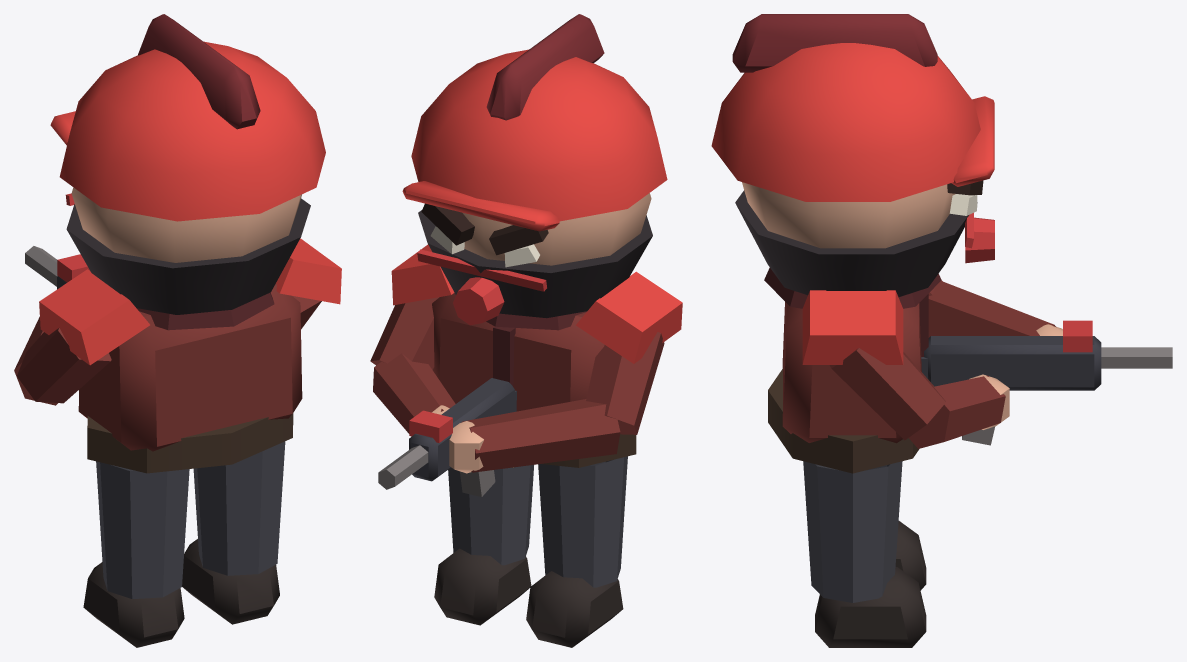
File: soldier_red.glb
3 views of the same model, side by side, from view 1: azimuth 30°, elevation 25°; view 2: azimuth 150°, elevation 25°; view 3: azimuth 270°, elevation 25° (orthographic). The views are drawn at different scales.
Parts seen in each view (by area): view 1: body, leg_L, leg_R; view 2: body, leg_L, leg_R; view 3: body, leg_R, leg_L.
Part boxes in pixels (box(x1,y1,x2,y2)): body: box(14, 14, 341, 473); leg_L: box(83, 461, 189, 647); leg_R: box(182, 441, 285, 624); body: box(370, 14, 682, 497); leg_L: box(526, 456, 627, 647); leg_R: box(434, 465, 533, 625); body: box(711, 14, 1172, 473); leg_R: box(803, 461, 926, 647); leg_L: box(895, 521, 926, 590).
Bounding box in the file's own units: 0.5462 × 1.12 × 0.7789.
